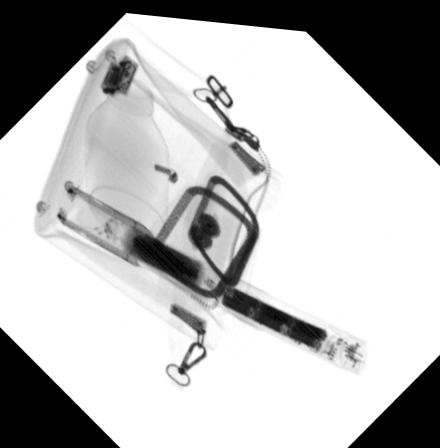Baton: (53, 181, 369, 371)
